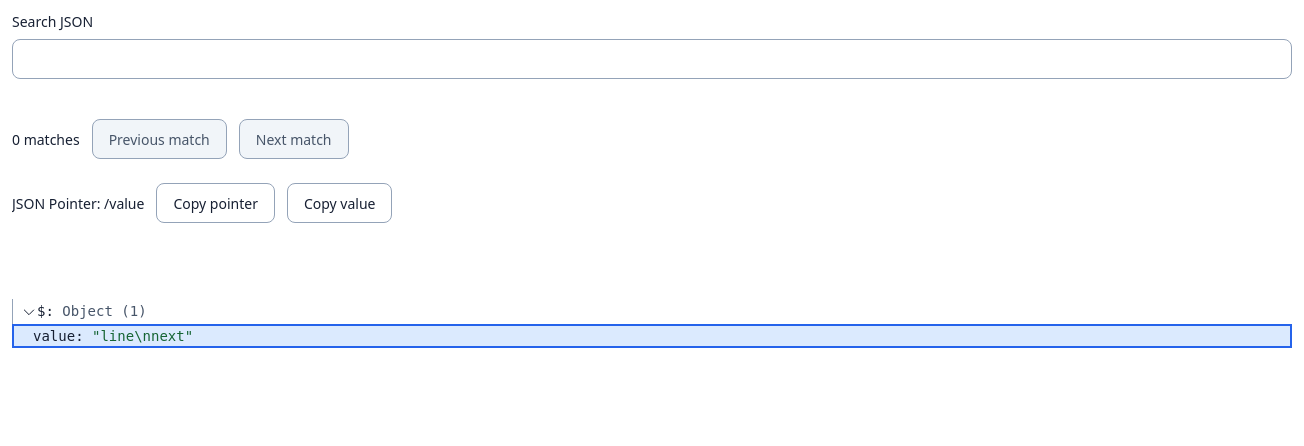
JsonTree › reports a refused copy and retains the exact value for manual copying
Click the button "Copy value" at [340, 203], box [287,183,392,223]
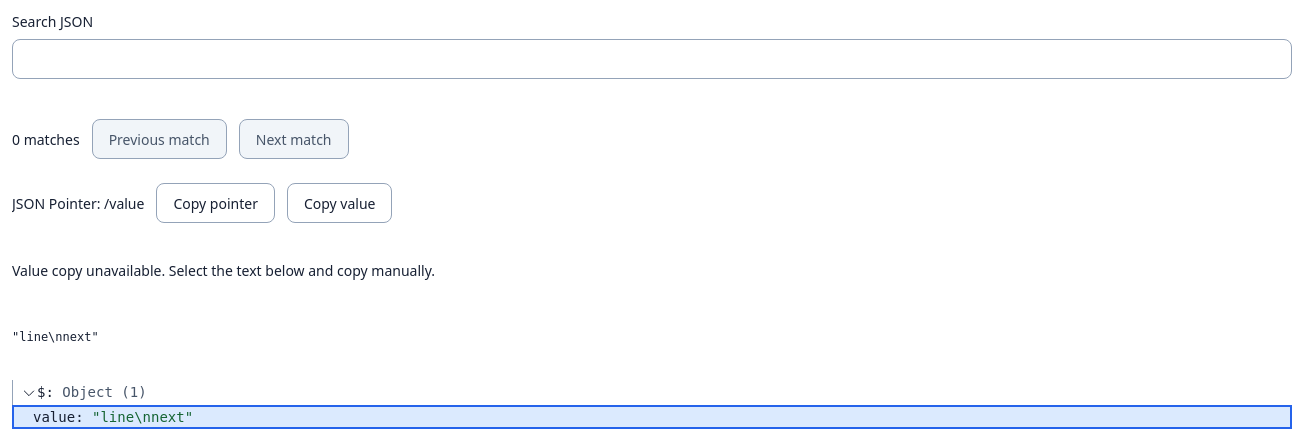
Result: the text "Value copy unavailable. Select the text below and copy manually." is shown at [12,261,435,280]
Result: the 1st text "\"line\\nnext\"" reads "\"line\\nnext\"" at [12,330,99,344]
